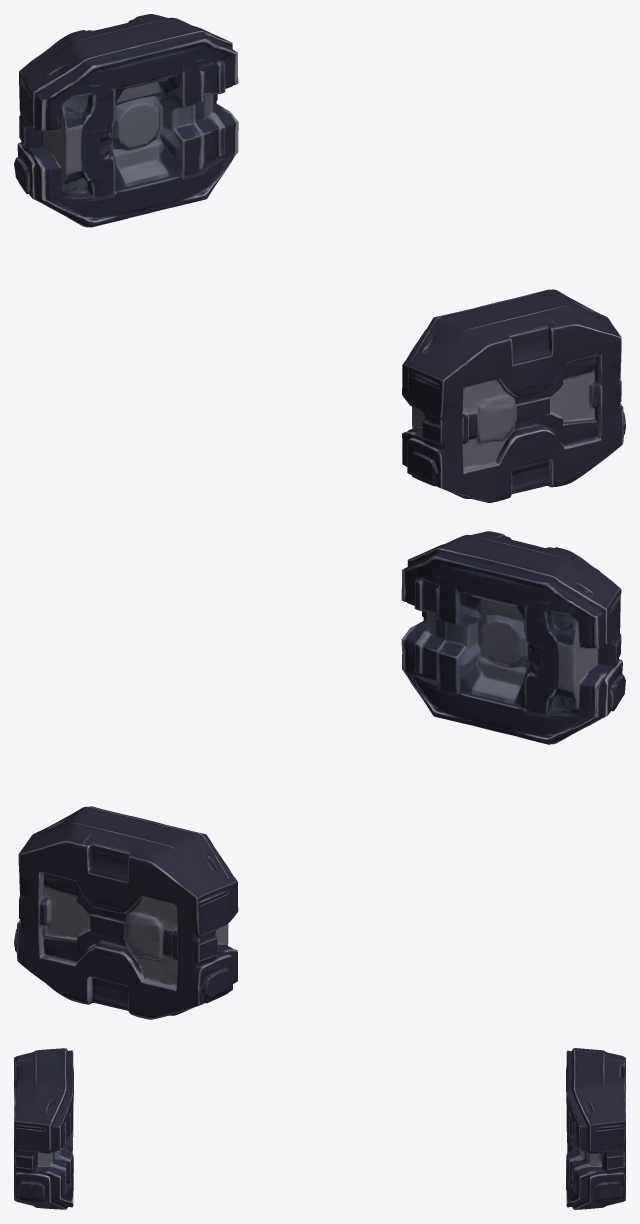
The picture shows the model from 3 angles, top to bottom: view 1: azimuth 30°, elevation 25°; view 2: azimuth 150°, elevation 25°; view 3: azimuth 270°, elevation 25°; orthographic projection. The views are drawn at different scales.
Visible parts, largest first — view 1: tripo_node_c506f98f; view 2: tripo_node_c506f98f; view 3: tripo_node_c506f98f.
Boxes of the visible parts, box(x1,y1,x2,y2) form: tripo_node_c506f98f: box(14, 14, 625, 502); tripo_node_c506f98f: box(14, 531, 625, 1019); tripo_node_c506f98f: box(14, 1048, 625, 1209).
Bounding box in the file's own units: 0.2809 × 0.2218 × 1.
1 material, 1 textured.
